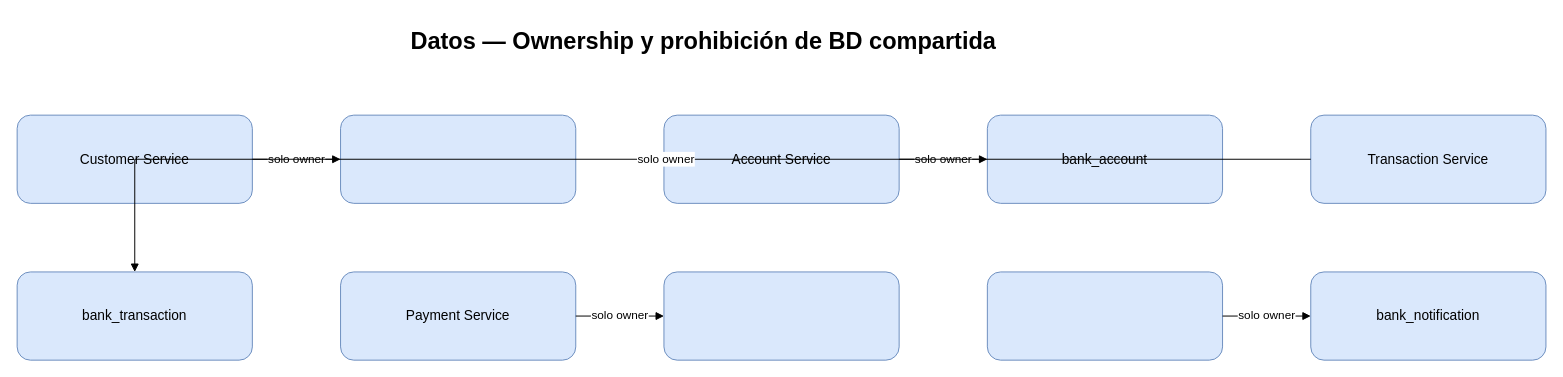
Image size: 1563x377. Some labels were removed from this diagram. The centre of each missing label's shape, as x and y in pixels:
"bank_customer" belongs at pixel 458 158.
"bank_payment" belongs at pixel 781 315.
"Notification" belongs at pixel 1104 315.
